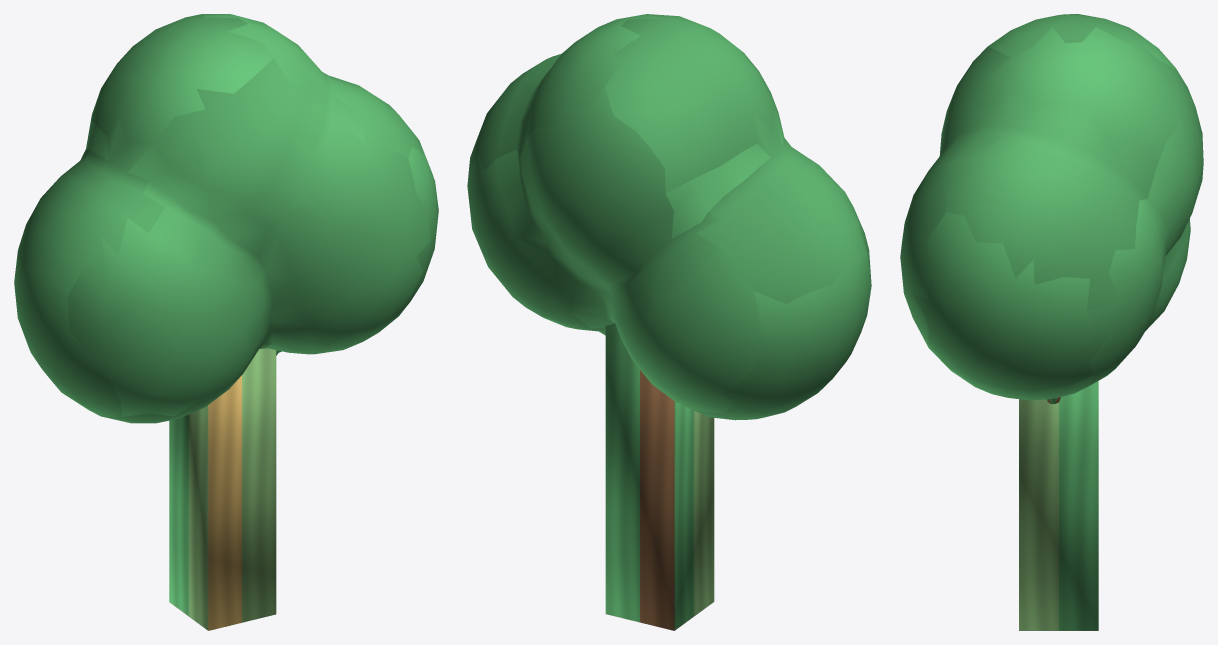
The model's file is tree_lush_a.glb.
The picture shows the model from 3 angles, left to right: view 1: azimuth 30°, elevation 25°; view 2: azimuth 150°, elevation 25°; view 3: azimuth 270°, elevation 25°; orthographic projection.
Parts seen in each view (by area): view 1: lod0, col; view 2: lod0, col; view 3: lod0, col.
Boxes of the visible parts, x1,y1,x2,y2 form: lod0: (14, 14, 438, 423); col: (169, 348, 276, 630); lod0: (467, 14, 871, 420); col: (605, 323, 714, 630); lod0: (900, 14, 1203, 404); col: (1019, 381, 1098, 630).
Size of what is drawn, in the model's own units: 3.32 by 4.88 by 2.28.
Materials: 2 (2 with a texture image).
